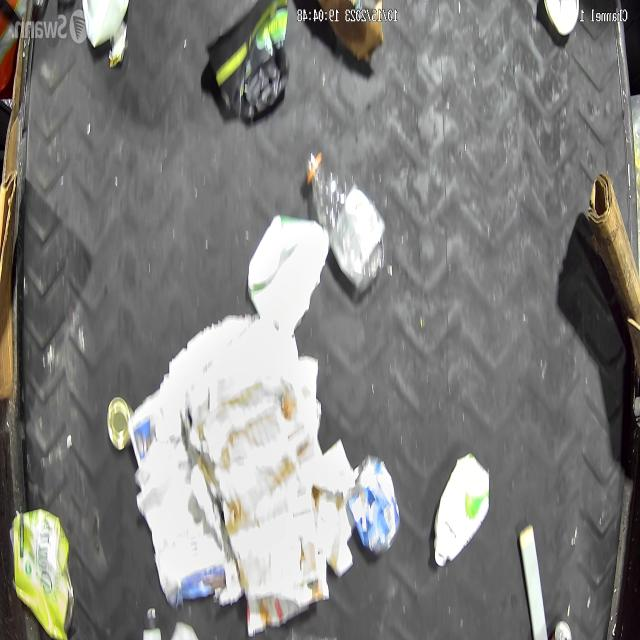can: (348, 454, 401, 556), (105, 397, 134, 453)
milk_jug: (247, 212, 331, 338), (432, 452, 490, 568)
non_white_jug: (203, 0, 291, 124), (9, 506, 75, 640)
plastic_bottle: (306, 146, 386, 298)
